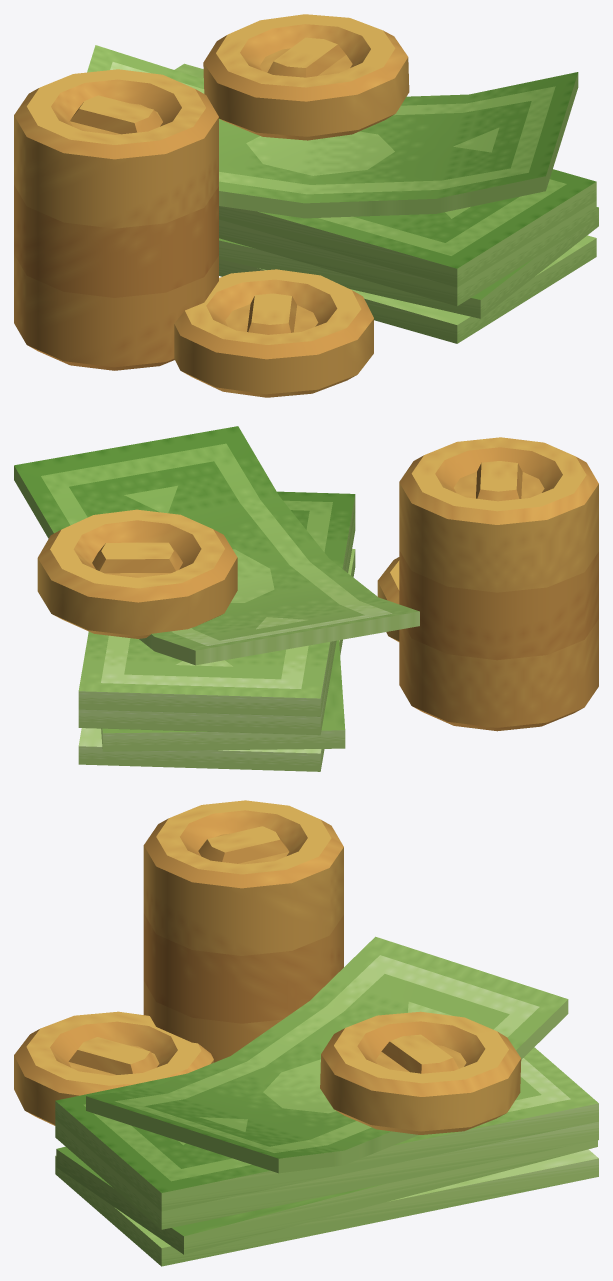
File: Money_Pile_Small.gltf
3 renders of one model, top to bottom at view 1: azimuth 30°, elevation 25°; view 2: azimuth 150°, elevation 25°; view 3: azimuth 270°, elevation 25°, orthographic. The views are drawn at different scales.
Parts seen in each view (by area): view 1: Money_Pile_Small; view 2: Money_Pile_Small; view 3: Money_Pile_Small.
Part boxes in pixels (bbox=[...]): Money_Pile_Small: bbox=[14, 14, 598, 397]; Money_Pile_Small: bbox=[14, 426, 598, 771]; Money_Pile_Small: bbox=[14, 800, 598, 1266].
Bounding box in the file's own units: 0.791 × 0.3 × 0.7217.
1 material, 1 textured.
